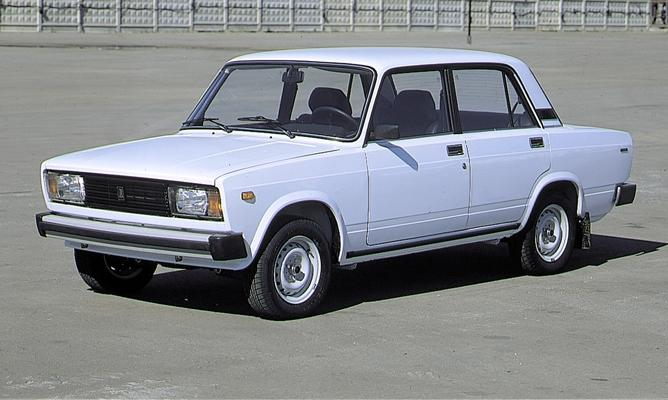car: (31, 44, 646, 319)
